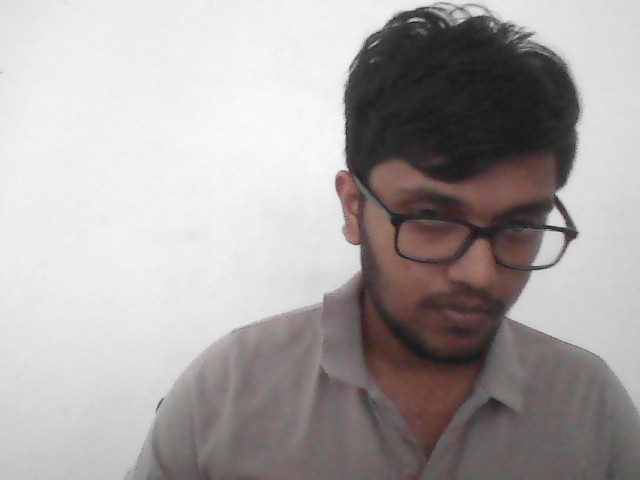lower level: (336, 1, 582, 368)
